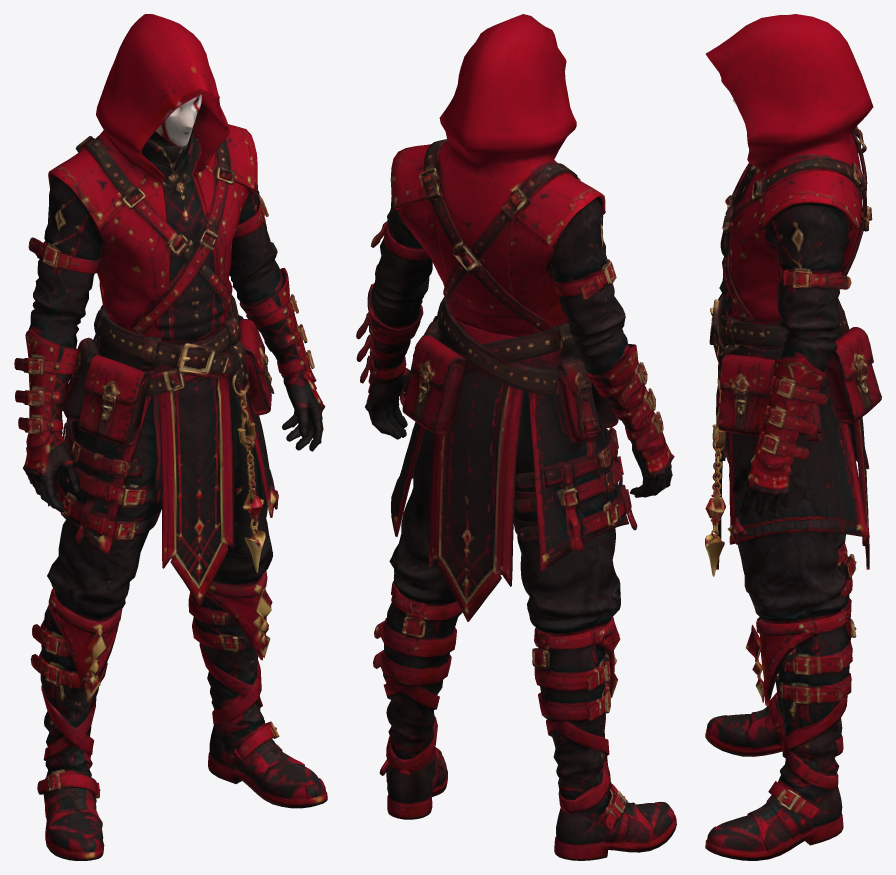
File: personagem.fbx
3 renders of one model, left to right at view 1: azimuth 30°, elevation 25°; view 2: azimuth 150°, elevation 25°; view 3: azimuth 270°, elevation 25°, orthographic. The views are drawn at different scales.
Visible parts, largest first — view 1: tripo_3b996cba_94f5_4489_ac49_c3626c13e2f6; view 2: tripo_3b996cba_94f5_4489_ac49_c3626c13e2f6; view 3: tripo_3b996cba_94f5_4489_ac49_c3626c13e2f6.
Part boxes in pixels (x1,y1,x2,y2): tripo_3b996cba_94f5_4489_ac49_c3626c13e2f6: [14, 14, 327, 860]; tripo_3b996cba_94f5_4489_ac49_c3626c13e2f6: [356, 14, 676, 860]; tripo_3b996cba_94f5_4489_ac49_c3626c13e2f6: [705, 14, 881, 860].
Bounding box in the file's own units: 0.3862 × 0.9995 × 0.2046.
Materials: 1 (1 with a texture image).
